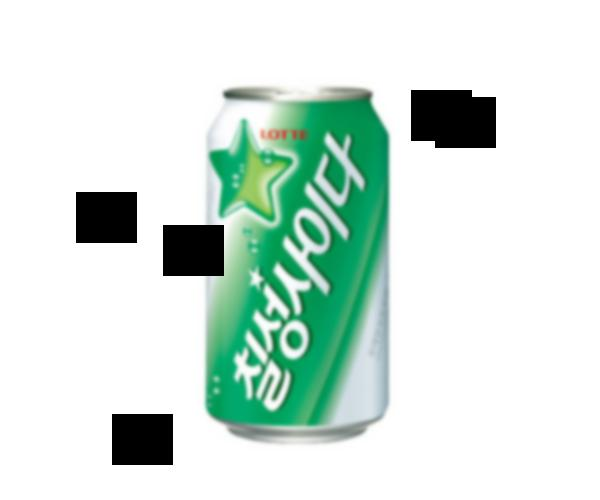chilsungcider: (192, 80, 408, 446)
